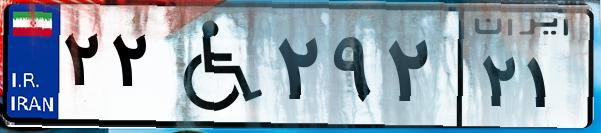1: (525, 38, 570, 115)
2: (270, 28, 330, 110), (385, 28, 445, 110), (57, 26, 110, 100), (475, 38, 525, 113), (110, 28, 158, 98)
9: (330, 28, 385, 110)
ژ (معلولین و جانبازان): (158, 12, 270, 120)
